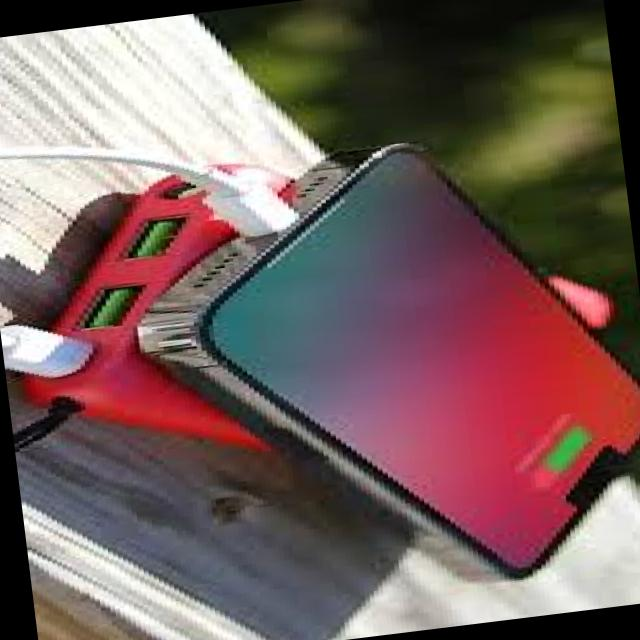power_bank: (9, 106, 632, 495)
